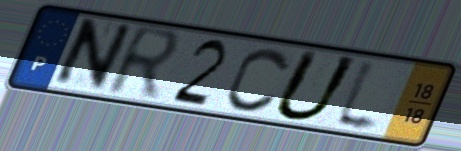2: (169, 38, 231, 109)
C: (224, 45, 295, 115)
L: (329, 55, 384, 139)
N: (46, 16, 137, 94)
R: (102, 22, 186, 104)
U: (269, 47, 363, 124)
